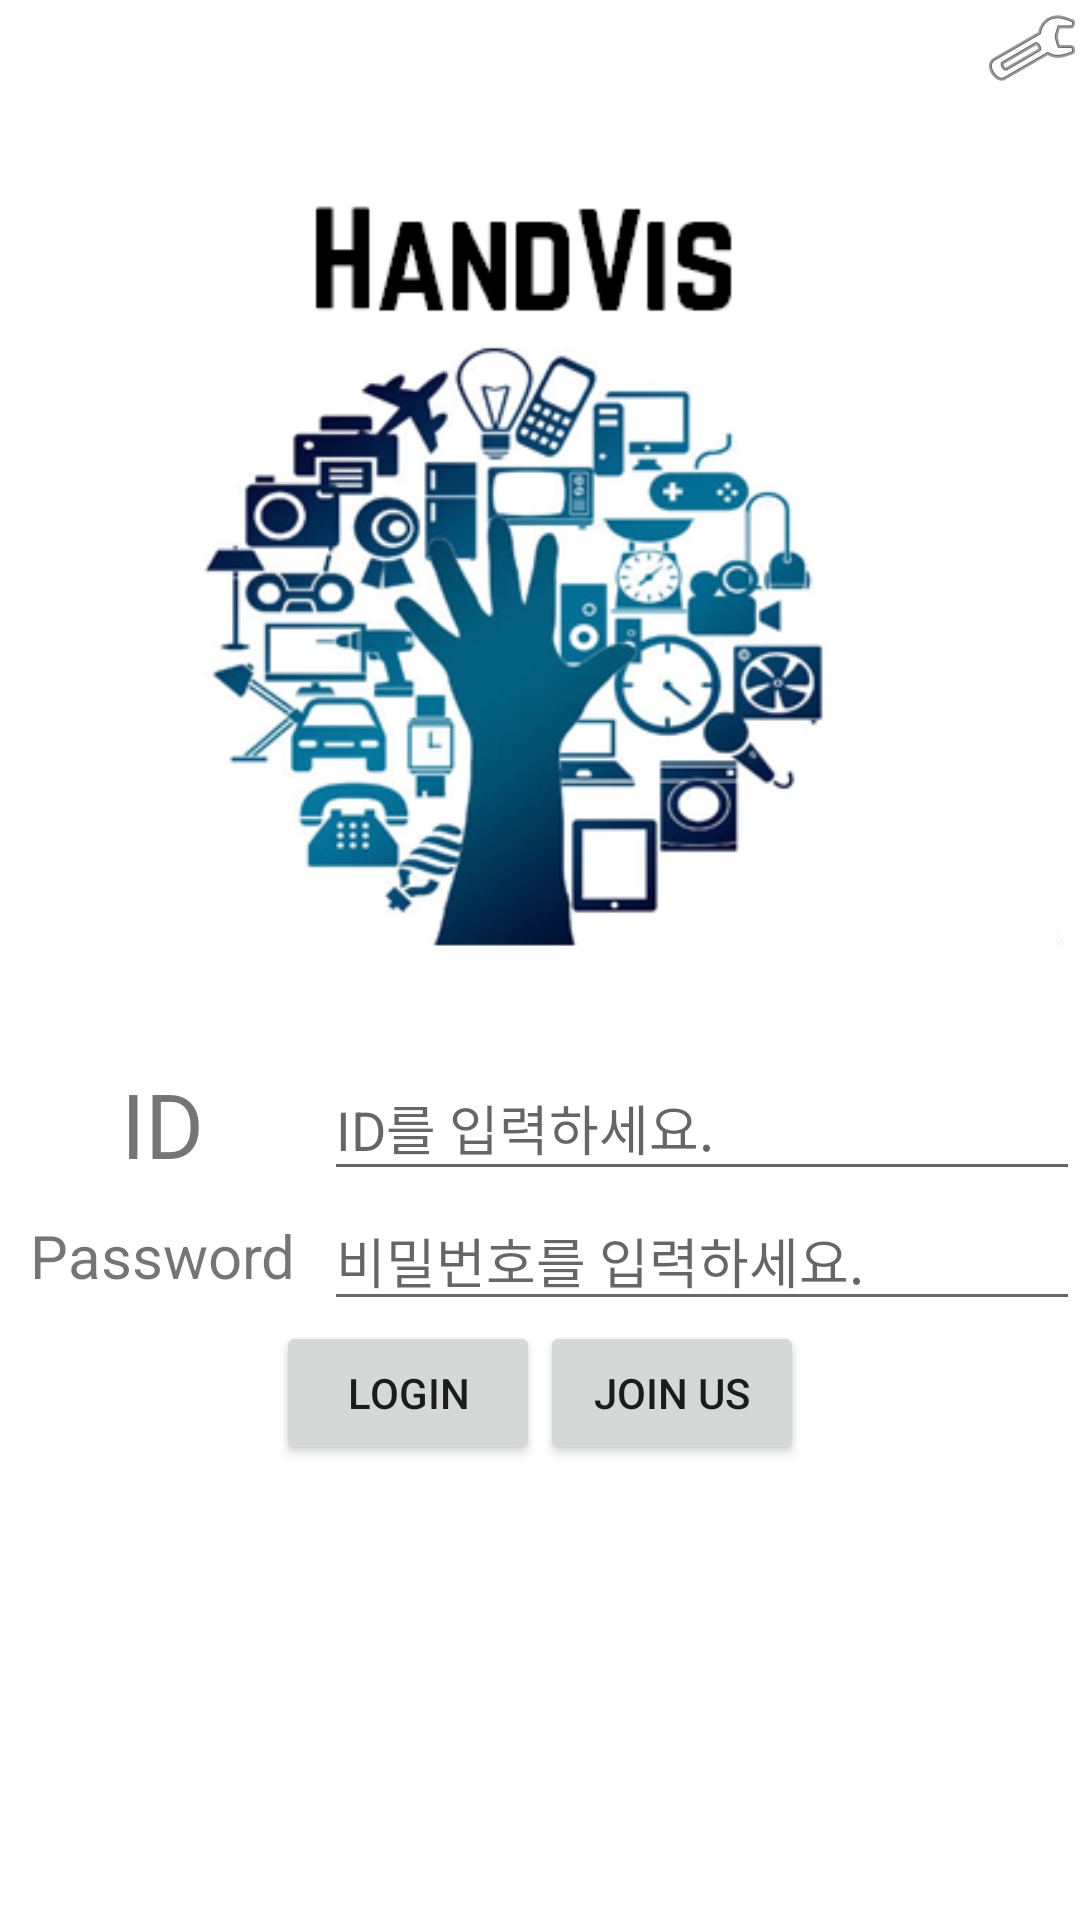

Locate icon controls on the screen. Image size 1080 × 1920, boxes as (x1, y1, x2, y2).
manage: (989, 15, 1075, 81)
